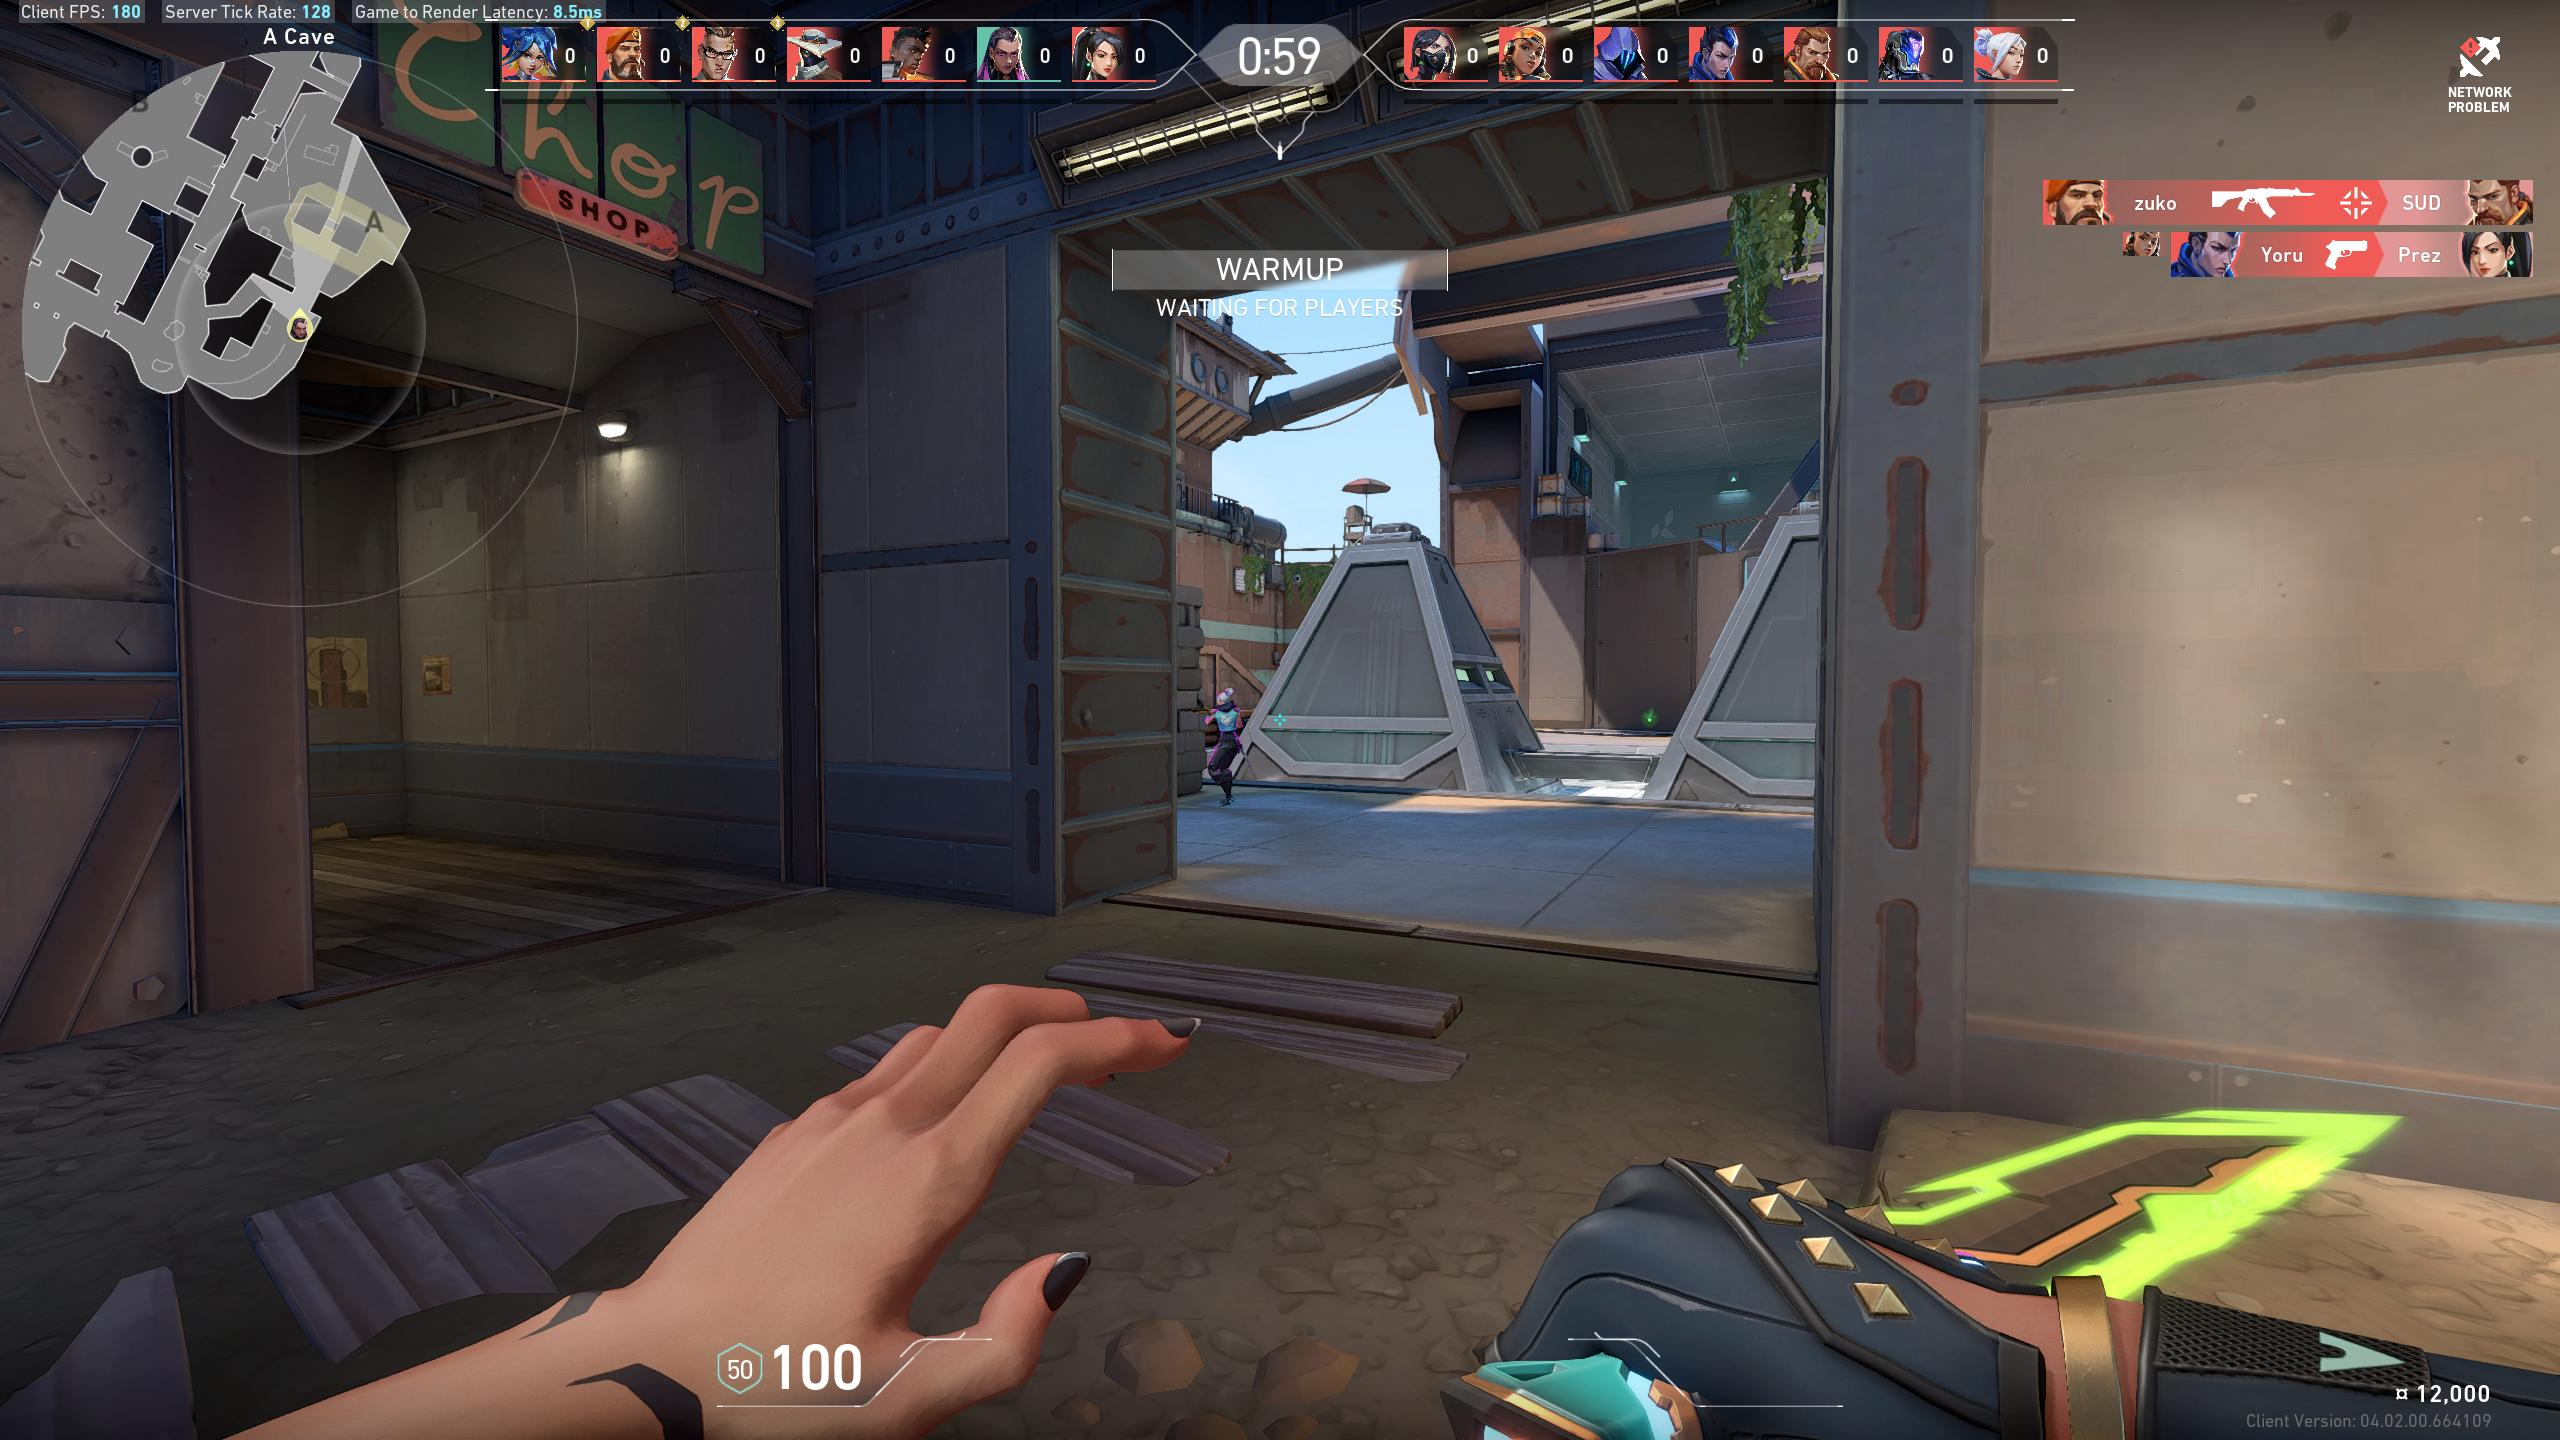enemyBody: (1220, 709, 1234, 737)
enemyHead: (1220, 695, 1227, 705)
